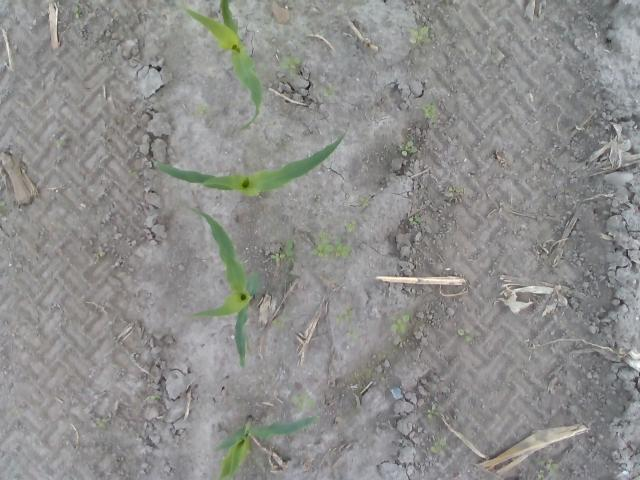Maize: (151, 130, 349, 196), (186, 206, 263, 370), (180, 1, 262, 131), (213, 413, 320, 480)
Weeds: (313, 232, 351, 258), (273, 238, 296, 264), (536, 460, 562, 480), (290, 392, 318, 410), (390, 315, 410, 335), (407, 28, 432, 44), (281, 56, 303, 72), (336, 307, 356, 324), (430, 438, 448, 456), (400, 140, 417, 158), (423, 103, 438, 122), (458, 328, 478, 342), (323, 86, 342, 100), (424, 404, 437, 422), (148, 392, 162, 404), (272, 314, 284, 328), (447, 188, 463, 198), (350, 325, 362, 338), (56, 133, 67, 146), (72, 5, 83, 18), (410, 214, 420, 226), (93, 416, 106, 425), (344, 221, 354, 231), (198, 104, 206, 113), (359, 198, 366, 206), (0, 200, 5, 206)
